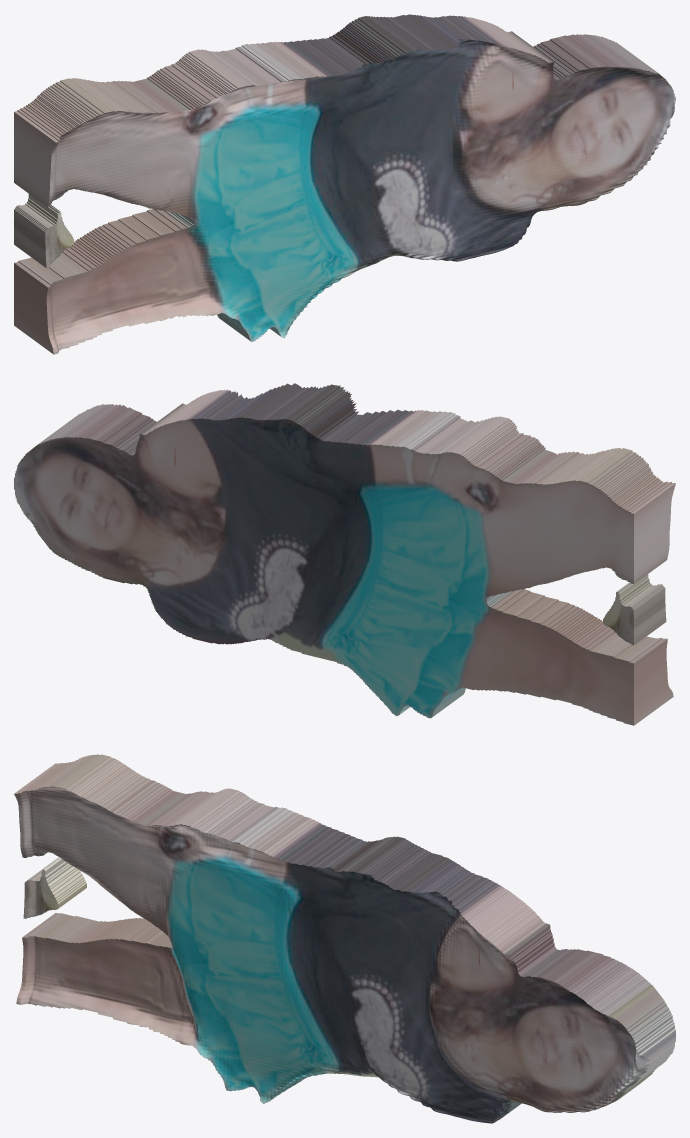
Rendered from avatar_ar_234316.glb.
3 views of the same model, one above another, from view 1: azimuth 30°, elevation 25°; view 2: azimuth 150°, elevation 25°; view 3: azimuth 330°, elevation 25° (orthographic).
Parts seen in each view (by area): view 1: world; view 2: world; view 3: world.
Part boxes in pixels (bbox=[...]): world: bbox=[14, 14, 675, 354]; world: bbox=[14, 383, 675, 725]; world: bbox=[14, 754, 675, 1123].
Size of the model in its own units: 137 by 59.09 by 18.71.
